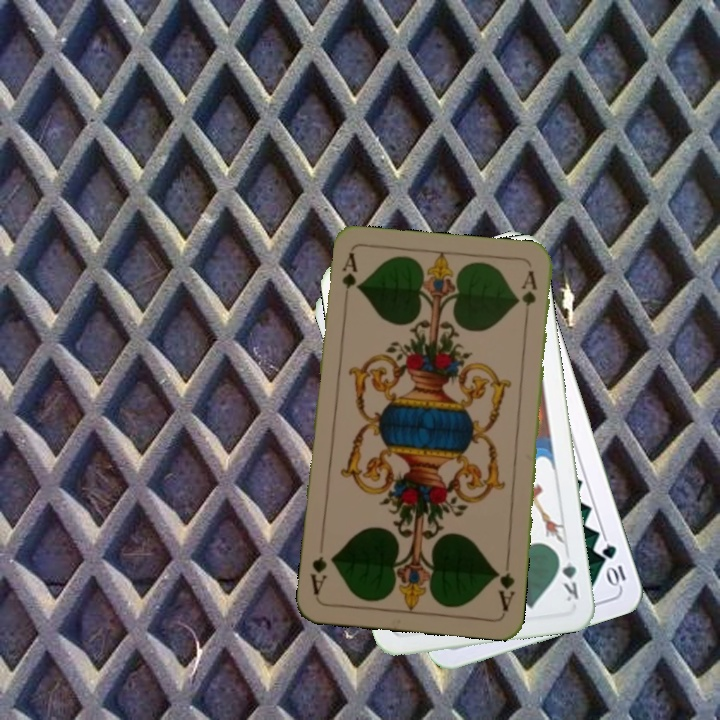G10: (598, 540, 629, 589)
GA: (338, 250, 360, 309), (492, 567, 518, 614)
GK: (553, 548, 581, 604)
